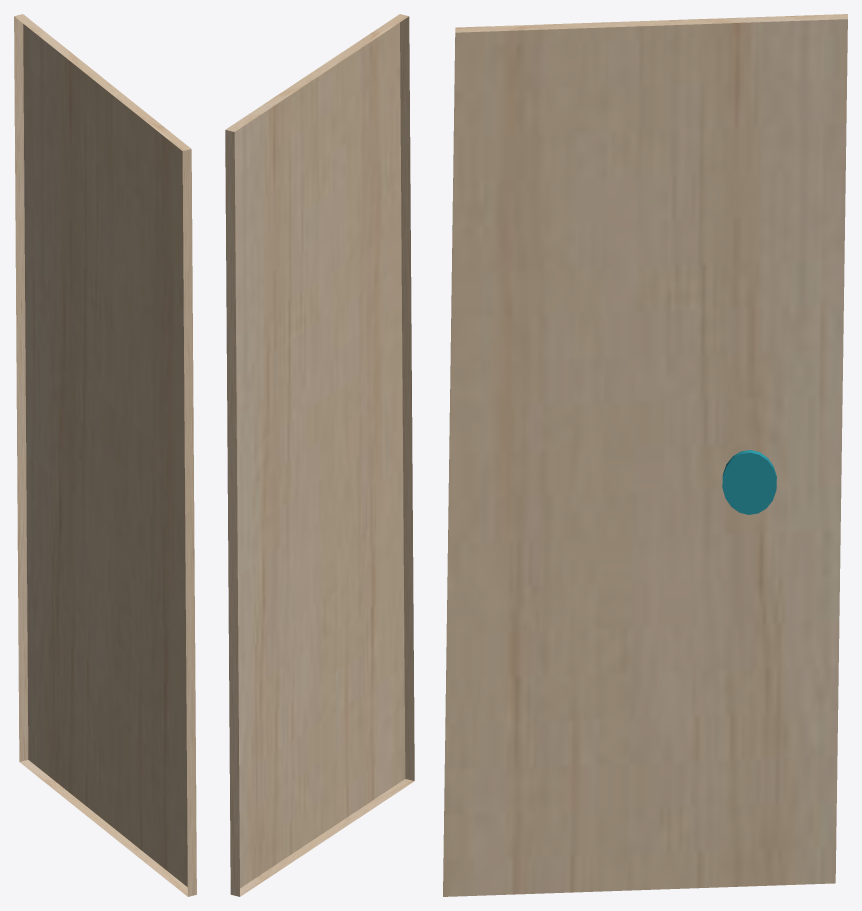
Rendered from AlaPuerta1.obj.
3 views of the same model, side by side, from view 1: azimuth 30°, elevation 25°; view 2: azimuth 150°, elevation 25°; view 3: azimuth 270°, elevation 25° (orthographic). The views are drawn at different scales.
Visible parts, largest first — view 1: polySurface256; view 2: polySurface256; view 3: polySurface256.
Part boxes in pixels (<box>): polySurface256: <box>14,14,196,896</box>; polySurface256: <box>225,14,414,896</box>; polySurface256: <box>443,14,847,896</box>.
Size of the model in its own units: 0.0475 by 1.9 by 0.793.
Materials: 2 (2 with a texture image).
